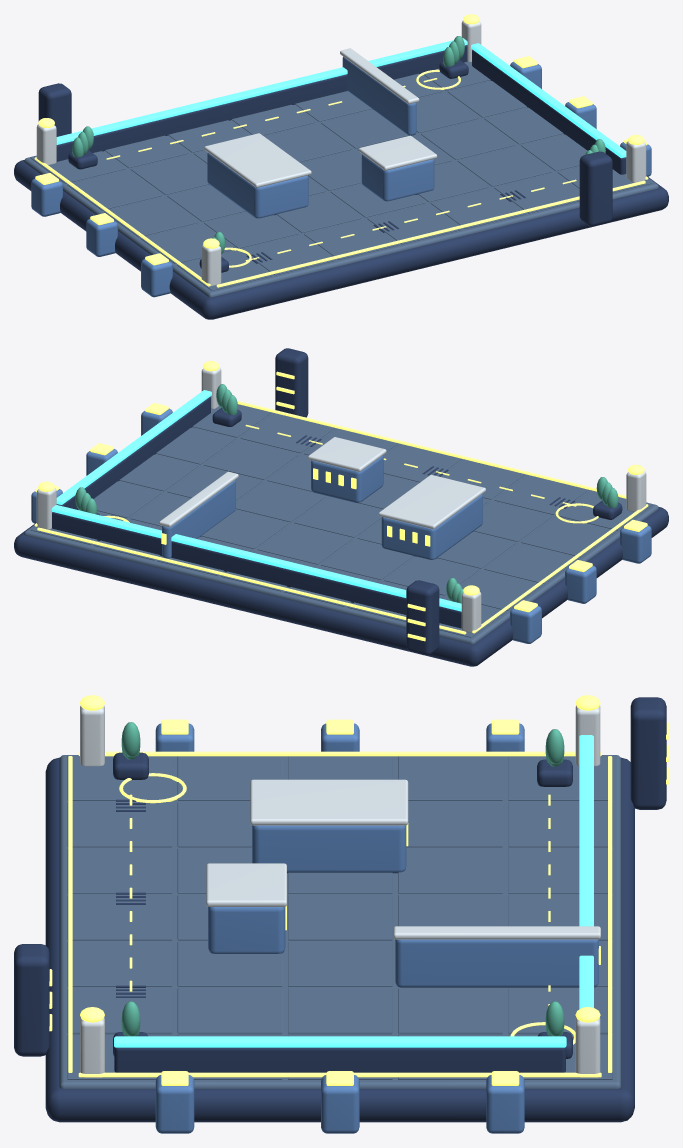
File: dock.glb
3 views of the same model, one above another, from view 1: azimuth 30°, elevation 25°; view 2: azimuth 150°, elevation 25°; view 3: azimuth 270°, elevation 25° (orthographic). The views are drawn at different scales.
Visible parts, largest first — view 1: Floating foundation, Arena floor, Reflector base, Cover cap, Cover, Reflector beam, Reflector base.001, Service tower.001, Cover.001, Cover.002, Floor panel.028, Floor panel.027 (+43 smaller); view 2: Floating foundation, Arena floor, Reflector base, Cover cap, Reflector beam, Cover, Reflector base.001, Service tower, Floor panel.016, Floor panel.028, Floor panel.022, Cover.001 (+41 smaller); view 3: Floating foundation, Arena floor, Reflector base.001, Cover.002, Cover cap, Cover, Reflector beam.001, Floor panel.028, Floor panel.026, Floor panel.017, Floor panel.022, Floor panel.027 (+46 smaller).
Boxes of the visible parts, x1=… form: Floating foundation: x1=14, y1=160, x2=668, y2=319; Arena floor: x1=24, y1=75, x2=658, y2=297; Reflector base: x1=56, y1=45, x2=467, y2=161; Cover cap: x1=204, y1=133, x2=311, y2=187; Cover: x1=207, y1=153, x2=308, y2=218; Reflector beam: x1=56, y1=38, x2=467, y2=144; Reflector base.001: x1=472, y1=49, x2=626, y2=174; Service tower.001: x1=579, y1=151, x2=612, y2=226; Cover.001: x1=361, y1=154, x2=434, y2=201; Cover.002: x1=342, y1=56, x2=416, y2=135; Floor panel.028: x1=457, y1=146, x2=552, y2=186; Floor panel.027: x1=421, y1=119, x2=515, y2=159; Floating foundation: x1=14, y1=506, x2=668, y2=666; Arena floor: x1=24, y1=412, x2=658, y2=644; Reflector base: x1=52, y1=512, x2=461, y2=628; Cover cap: x1=378, y1=474, x2=485, y2=529; Reflector beam: x1=51, y1=504, x2=461, y2=611; Cover: x1=381, y1=494, x2=482, y2=559; Reflector base.001: x1=56, y1=396, x2=210, y2=509; Service tower: x1=406, y1=580, x2=439, y2=655; Floor panel.016: x1=257, y1=524, x2=351, y2=564; Floor panel.028: x1=204, y1=439, x2=298, y2=479; Floor panel.022: x1=236, y1=481, x2=325, y2=522; Cover.001: x1=311, y1=455, x2=383, y2=502; Floating foundation: x1=45, y1=757, x2=634, y2=1122; Arena floor: x1=59, y1=755, x2=620, y2=1088; Reflector base.001: x1=114, y1=1047, x2=565, y2=1072; Cover.002: x1=395, y1=939, x2=598, y2=987; Cover cap: x1=250, y1=779, x2=408, y2=825; Cover: x1=252, y1=825, x2=406, y2=873; Reflector beam.001: x1=114, y1=1036, x2=566, y2=1047; Floor panel.028: x1=177, y1=988, x2=282, y2=1033; Floor panel.026: x1=398, y1=988, x2=502, y2=1033; Floor panel.017: x1=288, y1=895, x2=392, y2=940; Floor panel.022: x1=288, y1=941, x2=392, y2=986; Floor panel.027: x1=288, y1=988, x2=392, y2=1033.
Bounding box in the file's own units: 15.8 × 2.35 × 11.89.
